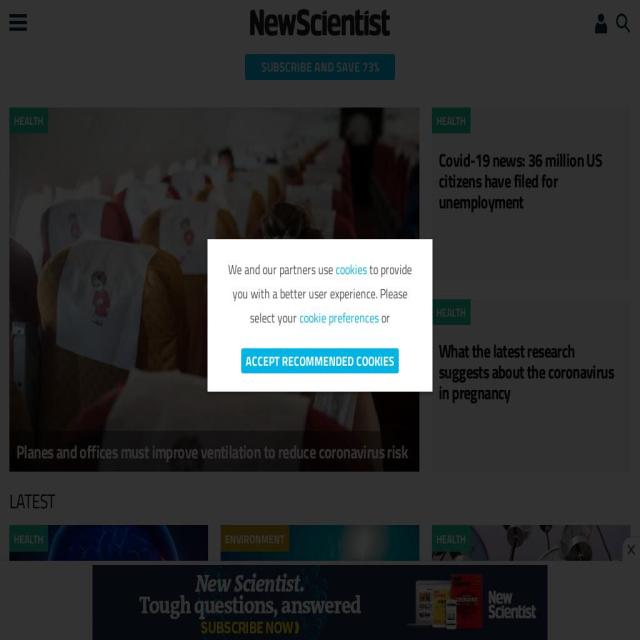button: (240, 348, 400, 374), (245, 54, 395, 80), (225, 531, 285, 546), (14, 112, 44, 128), (436, 112, 466, 128), (436, 304, 466, 319), (14, 531, 44, 546), (436, 531, 466, 546), (9, 11, 27, 34), (593, 13, 609, 36), (616, 13, 631, 36)
heading: (9, 490, 631, 513), (438, 149, 624, 213), (438, 341, 624, 404), (16, 442, 413, 463)
iframe: (92, 565, 548, 640)
image: (9, 106, 420, 472), (9, 525, 209, 640), (220, 525, 420, 640), (431, 525, 631, 640), (250, 9, 390, 36), (593, 14, 609, 34), (616, 14, 631, 34), (9, 14, 27, 18), (9, 27, 27, 31), (9, 21, 27, 24)
link: (299, 306, 379, 328), (336, 258, 366, 280)
text: (232, 258, 412, 328), (228, 258, 336, 280), (260, 56, 362, 78), (622, 537, 640, 561), (362, 56, 379, 78), (379, 306, 390, 328)
